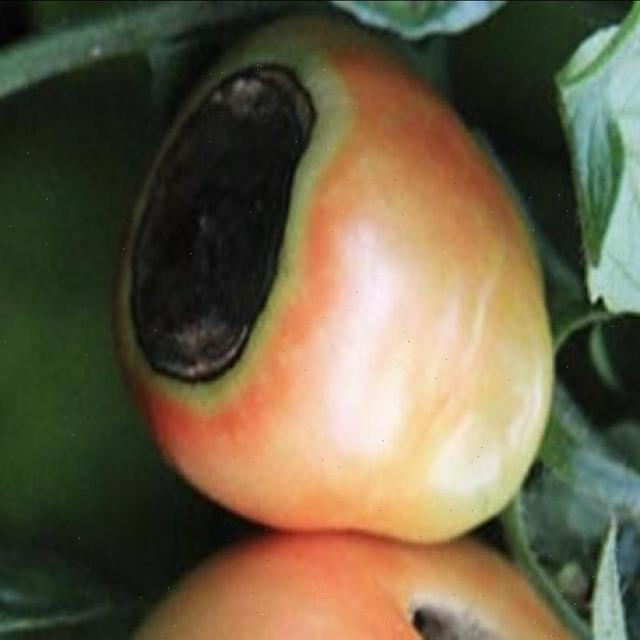Blossom End Rot Fruit: (68, 33, 307, 409)
